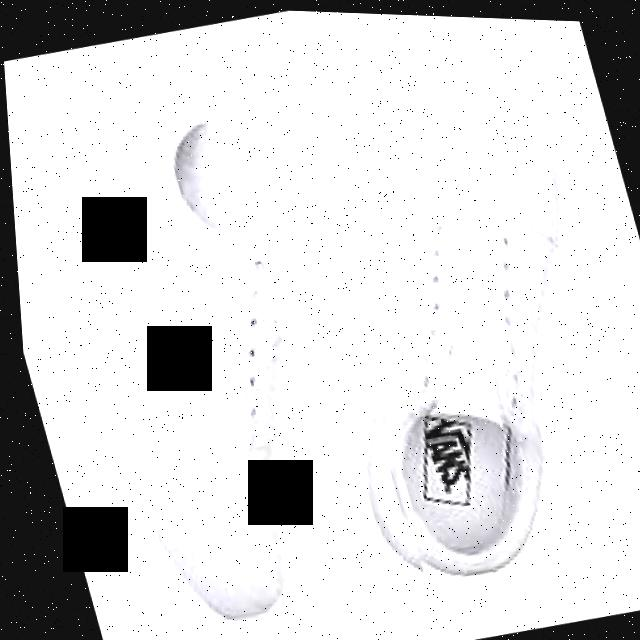shoe: (15, 81, 388, 640), (273, 44, 640, 606)
